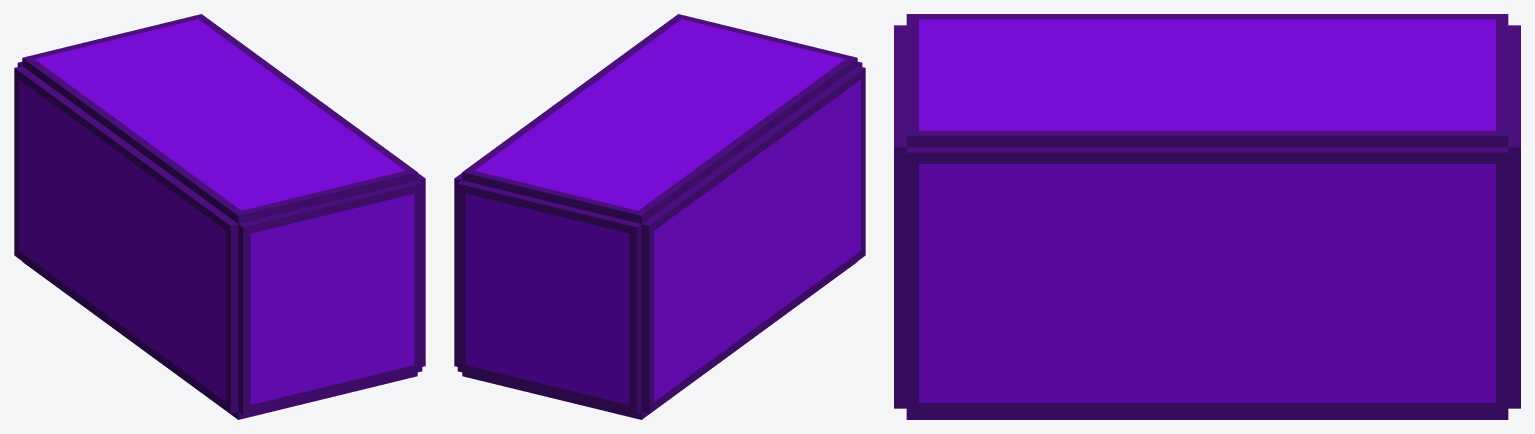
File: purple.obj
The picture shows the model from 3 angles, left to right: view 1: azimuth 30°, elevation 25°; view 2: azimuth 150°, elevation 25°; view 3: azimuth 270°, elevation 25°; orthographic projection. The views are drawn at different scales.
Visible parts, largest first — view 1: Matrix_4; view 2: Matrix_4; view 3: Matrix_4.
Part boxes in pixels (left/top/right/bottom): Matrix_4: left=14, top=14, right=425, bottom=419; Matrix_4: left=454, top=14, right=865, bottom=419; Matrix_4: left=894, top=14, right=1520, bottom=419.
Size of the model in its own units: 25 by 25 by 50.
Materials: 1 (1 with a texture image).
